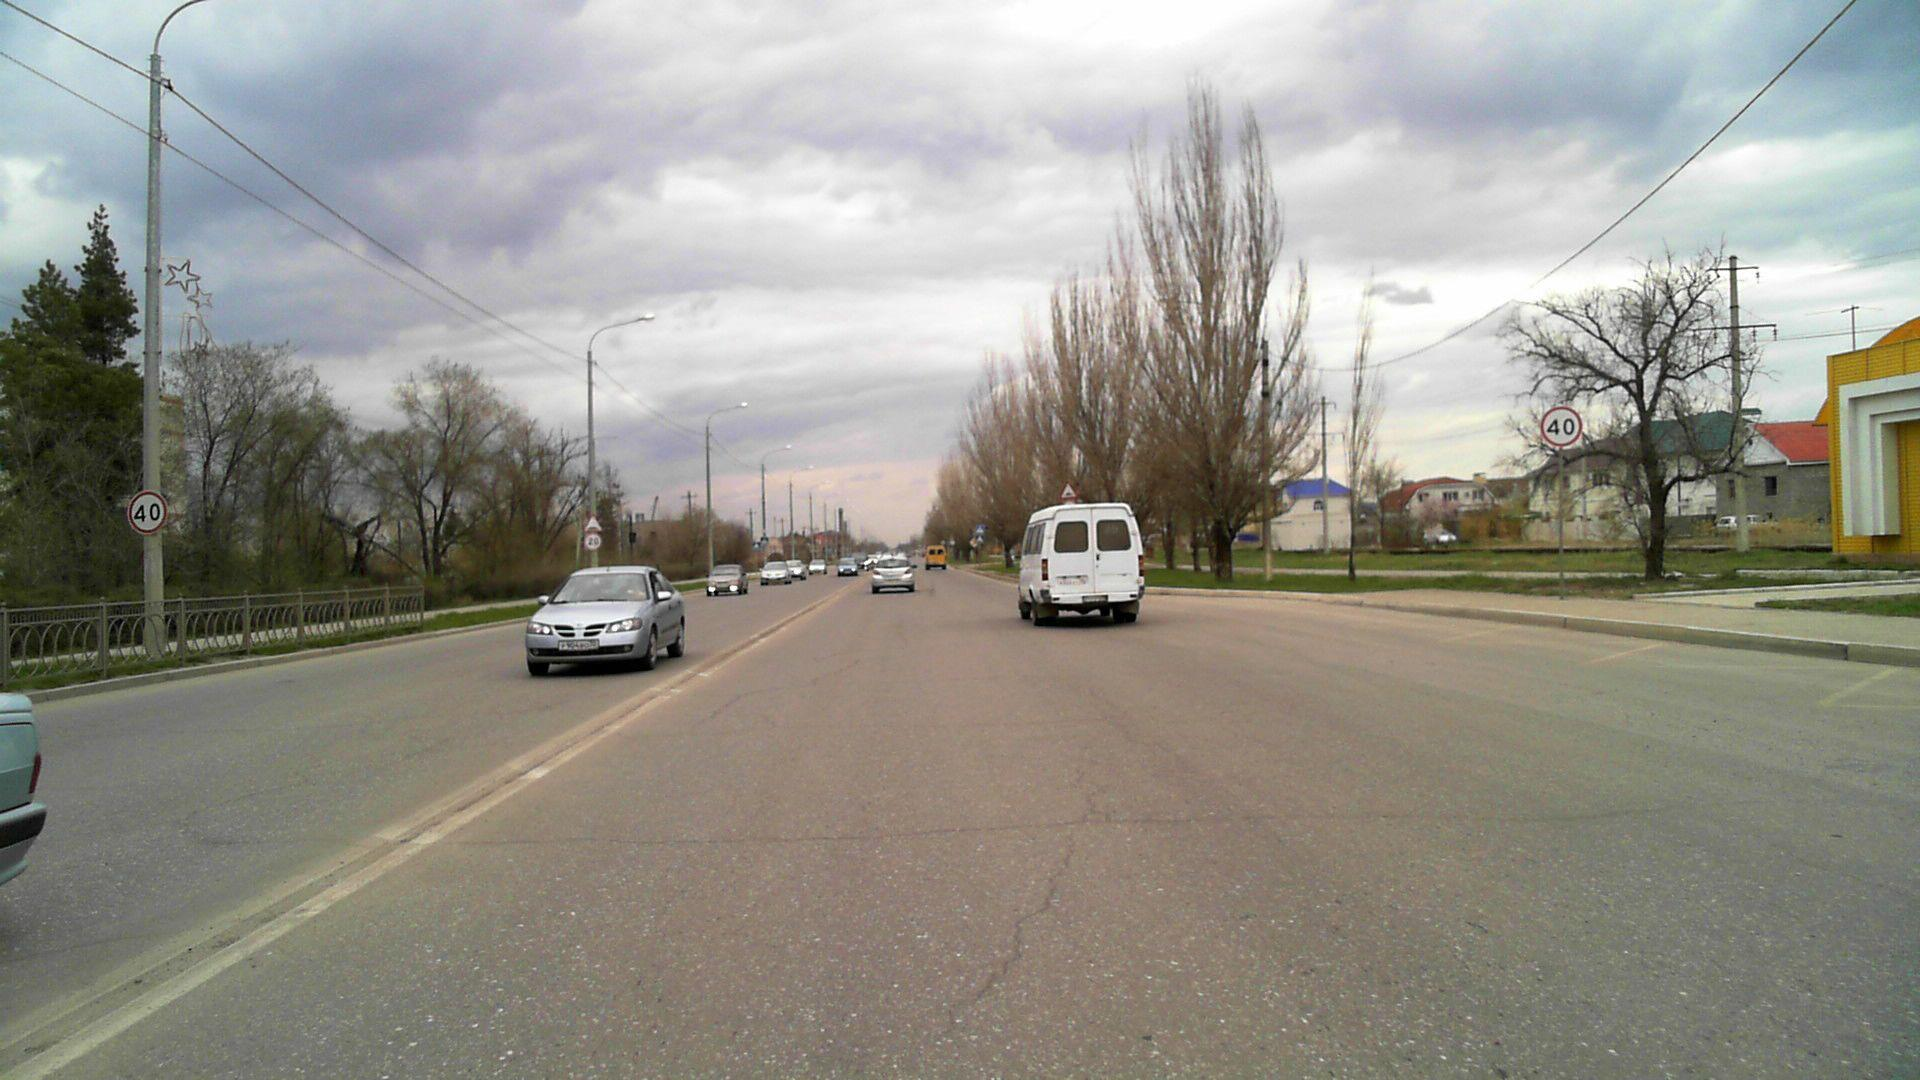1_17: (583, 514, 603, 533), (1058, 481, 1077, 500)
3_24: (1542, 404, 1585, 447), (131, 493, 167, 533), (584, 533, 604, 550)
5_19_1: (975, 524, 986, 534)
5_19_2: (761, 537, 769, 545)
5_20: (976, 535, 986, 546), (753, 542, 761, 550)
